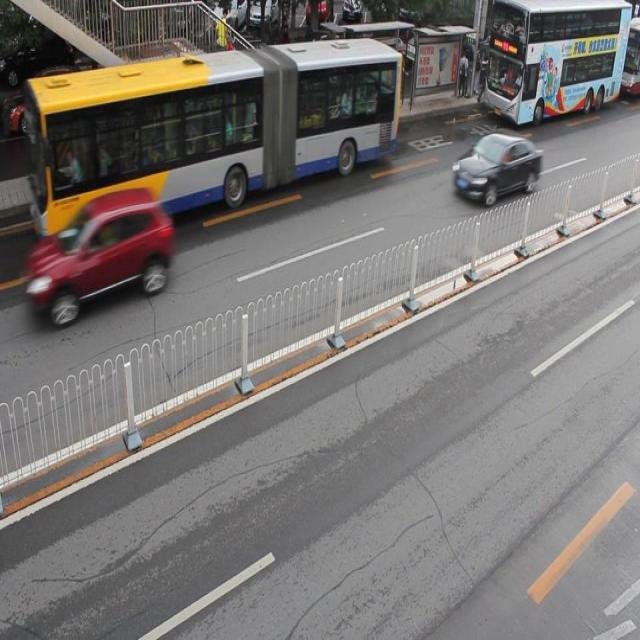car: (39, 189, 172, 324), (451, 130, 540, 208), (1, 66, 97, 136), (105, 57, 190, 124), (205, 35, 275, 102), (299, 37, 361, 92)
van: (27, 38, 401, 235), (482, 1, 631, 129)
